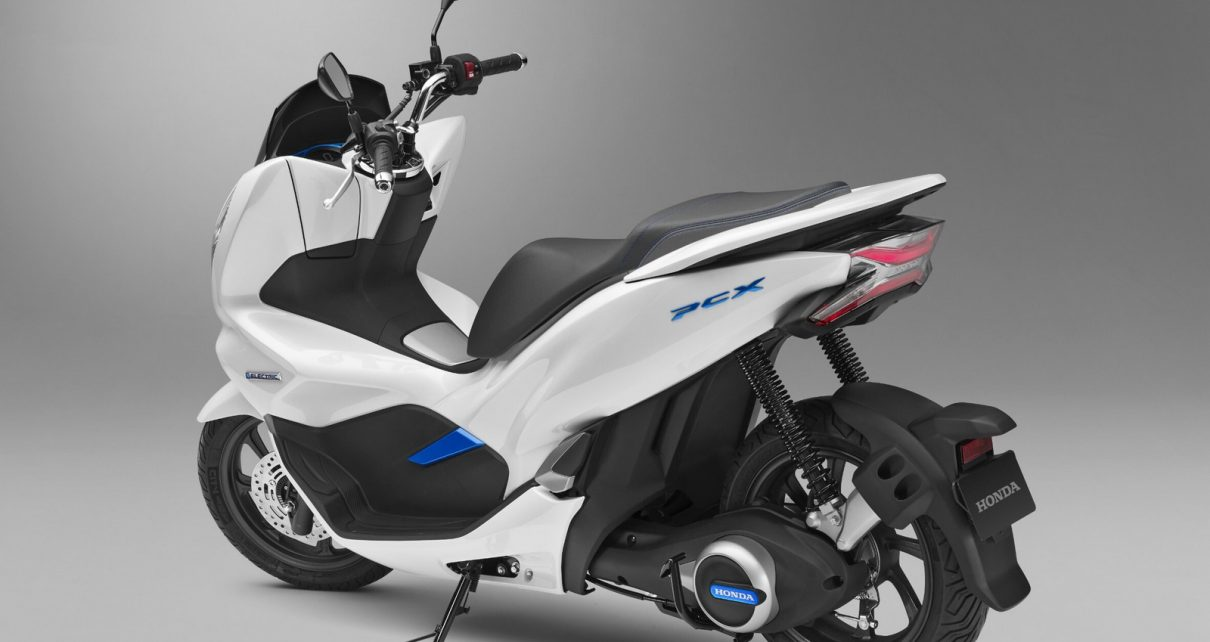motorcycle: (202, 56, 1012, 642)
